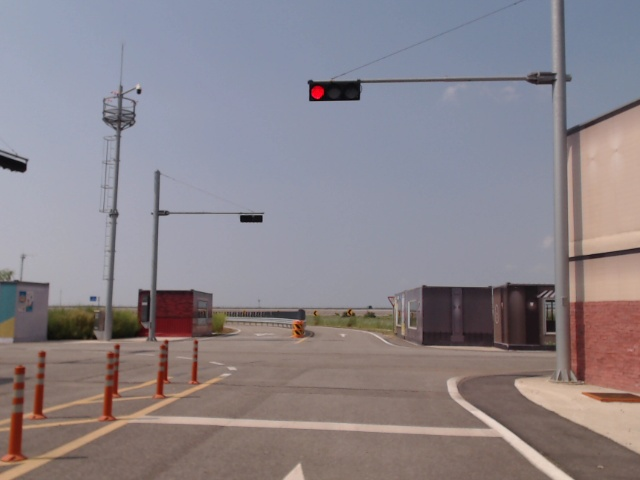red_3: (309, 82, 360, 101)
